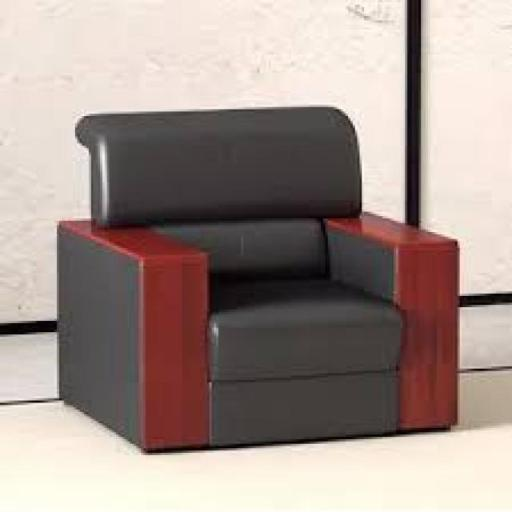sofa: (50, 63, 452, 476)
